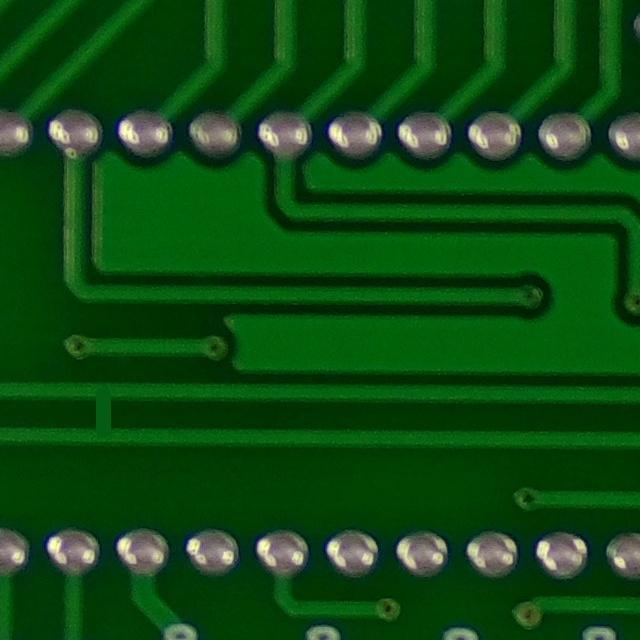short: (71, 362, 138, 459)
